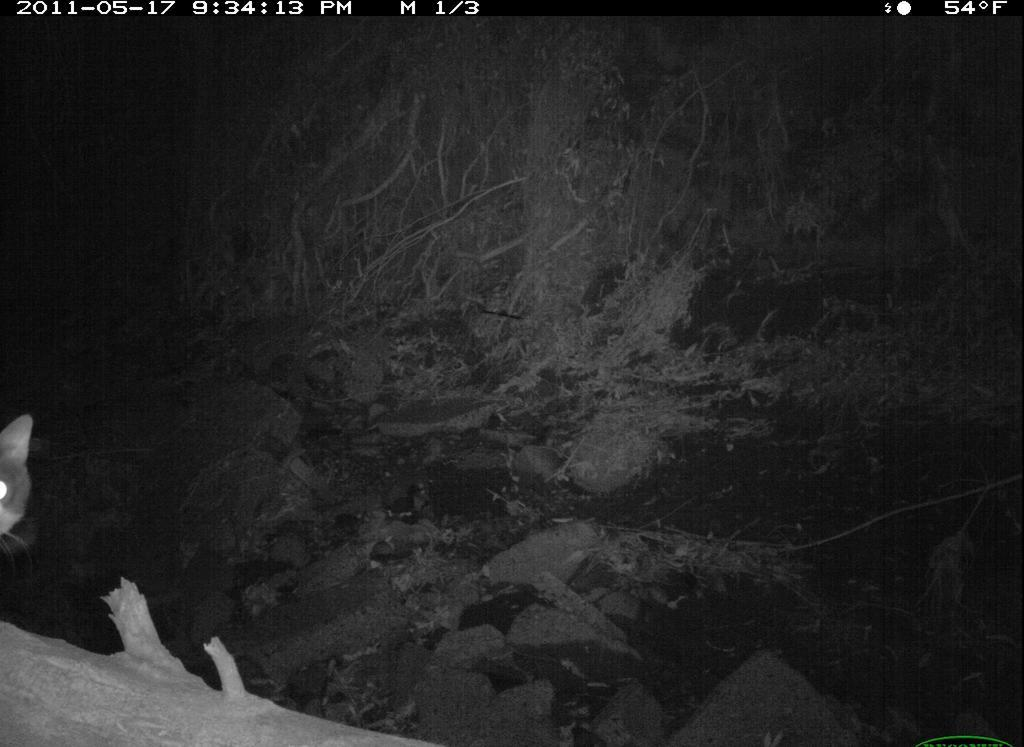cat: (4, 399, 53, 571)
